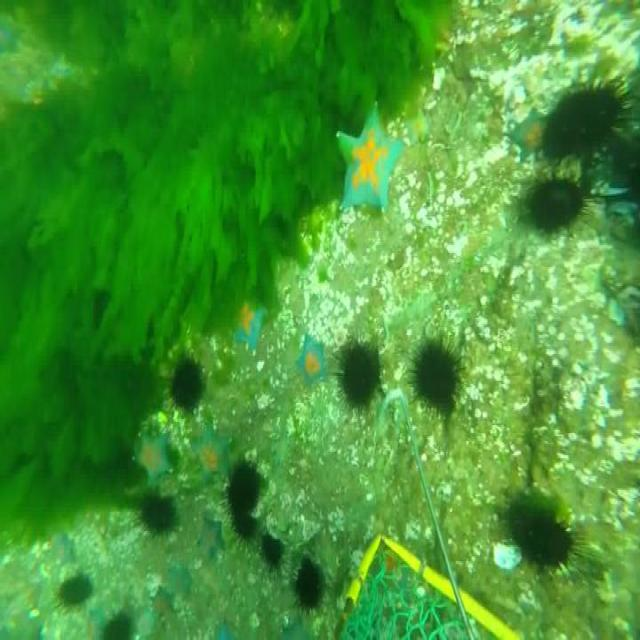echinus: (543, 74, 635, 154), (508, 500, 586, 576), (409, 342, 463, 421), (333, 332, 379, 414), (530, 174, 586, 232), (225, 460, 259, 542), (159, 356, 202, 408), (137, 492, 176, 536), (294, 558, 323, 607), (258, 534, 284, 566), (61, 574, 90, 602), (102, 611, 129, 640)
scallop: (492, 544, 522, 572), (436, 64, 446, 92)
starfish: (334, 96, 404, 215), (511, 107, 548, 158), (134, 435, 174, 482), (193, 427, 229, 477), (232, 300, 267, 349), (295, 337, 327, 387), (200, 522, 225, 554), (164, 569, 190, 596), (212, 626, 235, 640)
